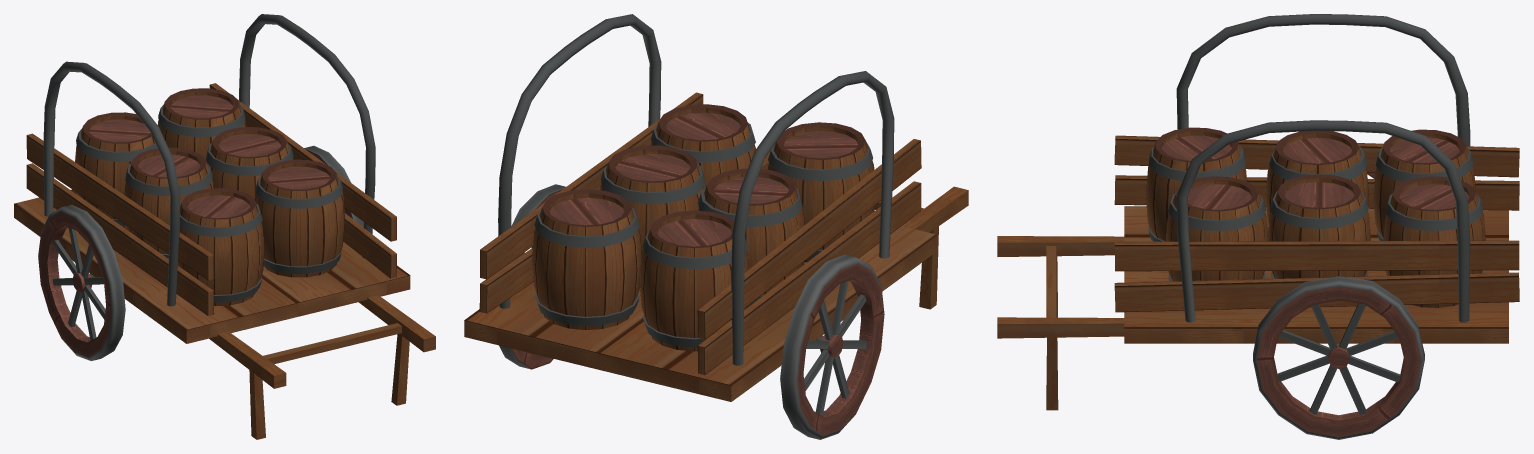
File: Cart_Art.fbx
3 renders of one model, left to right at view 1: azimuth 30°, elevation 25°; view 2: azimuth 150°, elevation 25°; view 3: azimuth 270°, elevation 25°, orthographic. The views are drawn at different scales.
Visible parts, largest first — view 1: OktoberFest_Cart_LOD0; view 2: OktoberFest_Cart_LOD0; view 3: OktoberFest_Cart_LOD0.
Part boxes in pixels (x1,y1,x2,y2): OktoberFest_Cart_LOD0: (14,14,435,439); OktoberFest_Cart_LOD0: (464,14,968,439); OktoberFest_Cart_LOD0: (997,14,1519,439).
Size of what is drawn, in the model's own units: 337 by 342 by 534.
